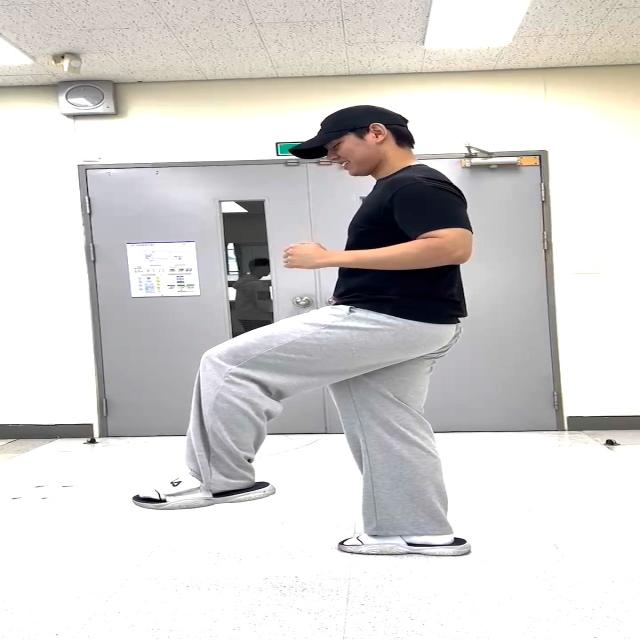leg: (120, 305, 403, 553)
